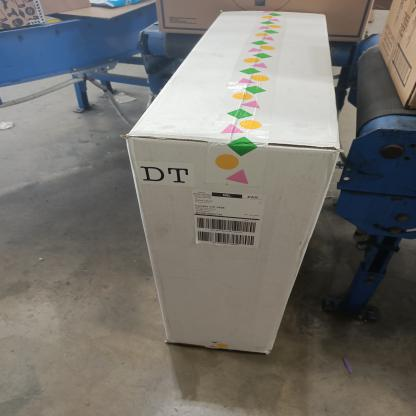label: (186, 185, 276, 267)
package: (117, 5, 349, 374)
